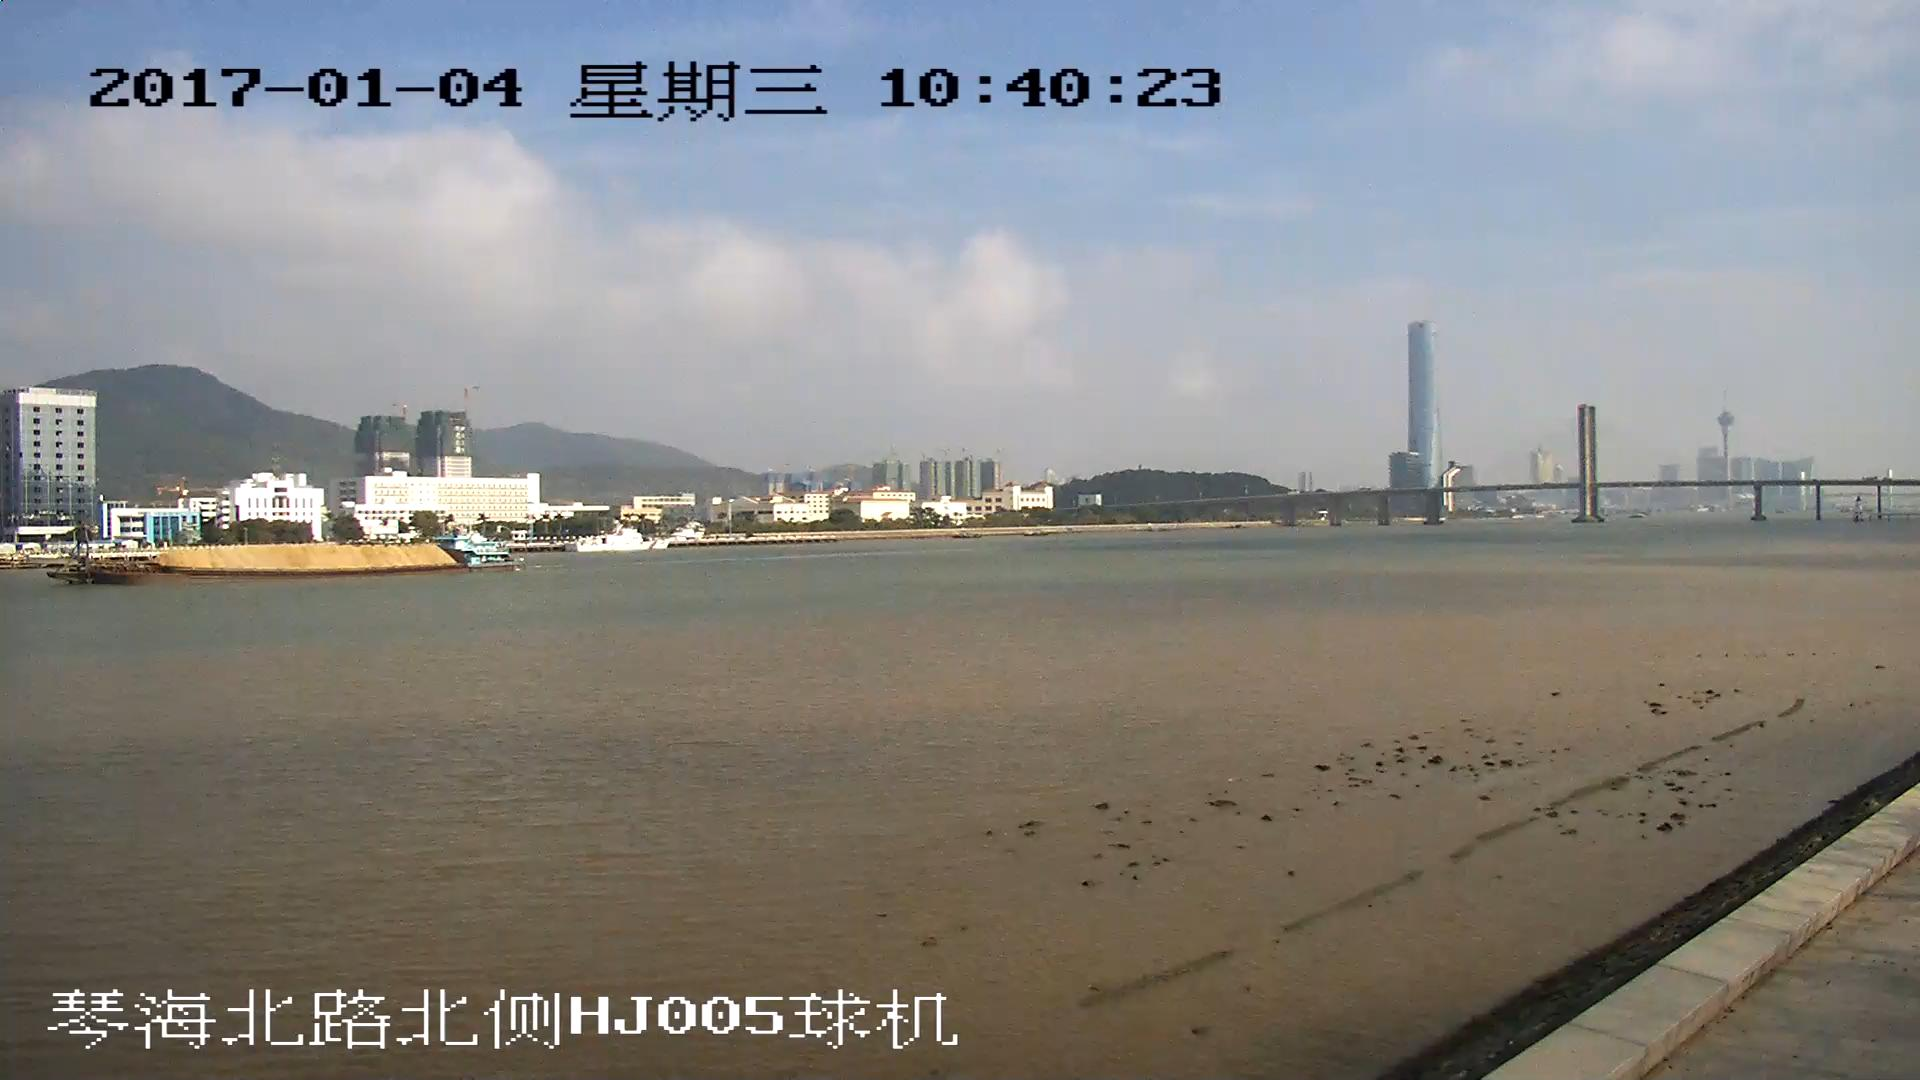ore carrier: (52, 534, 518, 580)
